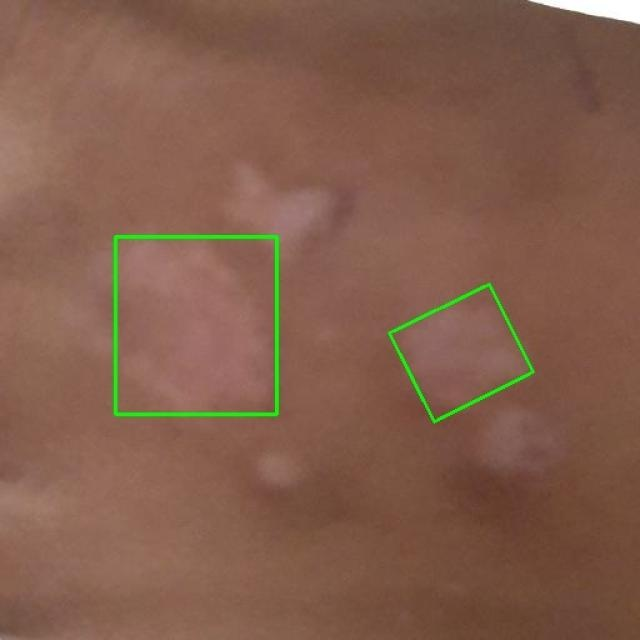Eczema: (115, 236, 276, 414), (390, 284, 533, 422)
